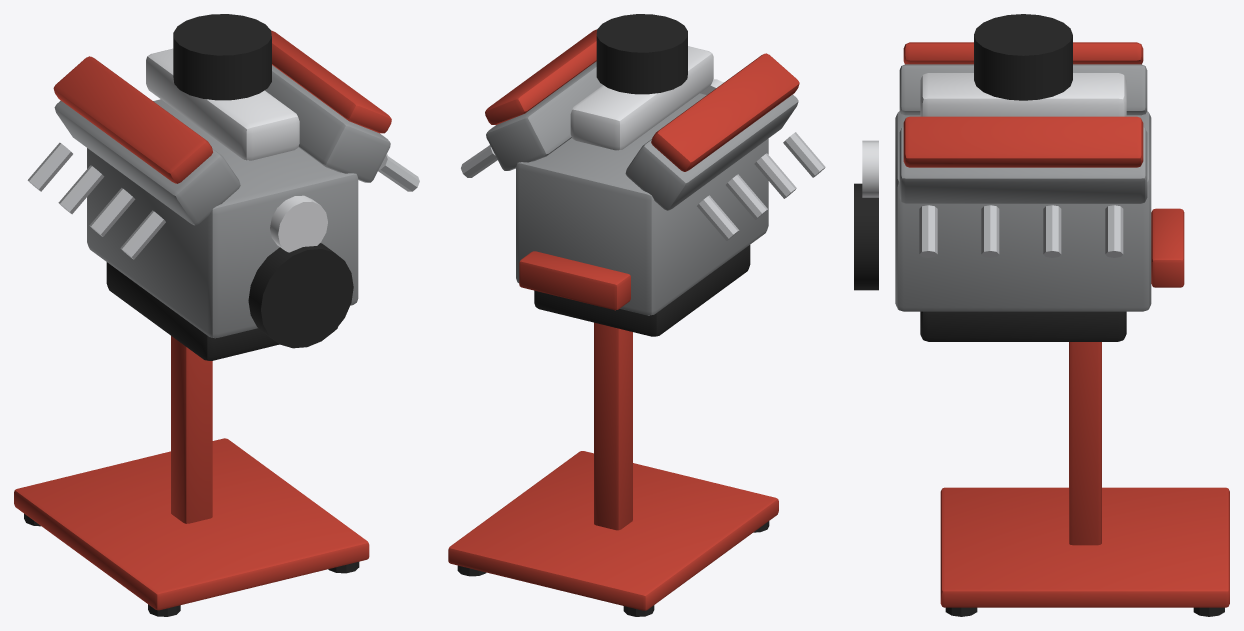
File: g_engine.fbx
The picture shows the model from 3 angles, left to right: view 1: azimuth 30°, elevation 25°; view 2: azimuth 150°, elevation 25°; view 3: azimuth 270°, elevation 25°; orthographic projection. The views are drawn at different scales.
Visible parts, largest first — view 1: g_engine_red, g_engine_engine, g_engine_black, g_engine_alu, g_engine_steel, g_engine_rubber; view 2: g_engine_red, g_engine_engine, g_engine_black, g_engine_alu, g_engine_steel, g_engine_rubber; view 3: g_engine_red, g_engine_engine, g_engine_black, g_engine_alu, g_engine_steel, g_engine_rubber.
Boxes of the visible parts, x1,y1,x2,y2 form: g_engine_red: (14,30,391,610); g_engine_engine: (54,65,390,338); g_engine_black: (106,14,353,360); g_engine_alu: (146,48,327,252); g_engine_steel: (27,142,419,259); g_engine_rubber: (24,513,359,616); g_engine_red: (448,29,799,610); g_engine_engine: (486,61,798,315); g_engine_black: (534,14,750,336); g_engine_alu: (570,46,723,150); g_engine_steel: (461,132,825,240); g_engine_rubber: (457,521,769,616); g_engine_red: (903,42,1229,607); g_engine_engine: (895,64,1151,311); g_engine_black: (854,14,1126,341); g_engine_alu: (862,73,1126,197); g_engine_steel: (919,205,1123,257); g_engine_rubber: (945,607,1224,616).
Size of the model in its own units: 0.8292 by 1.42 by 0.91.
